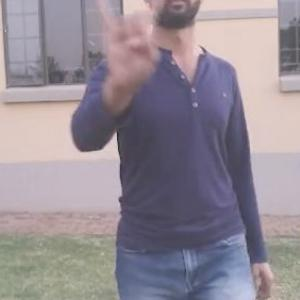takeoff-hand: (87, 0, 172, 92)
